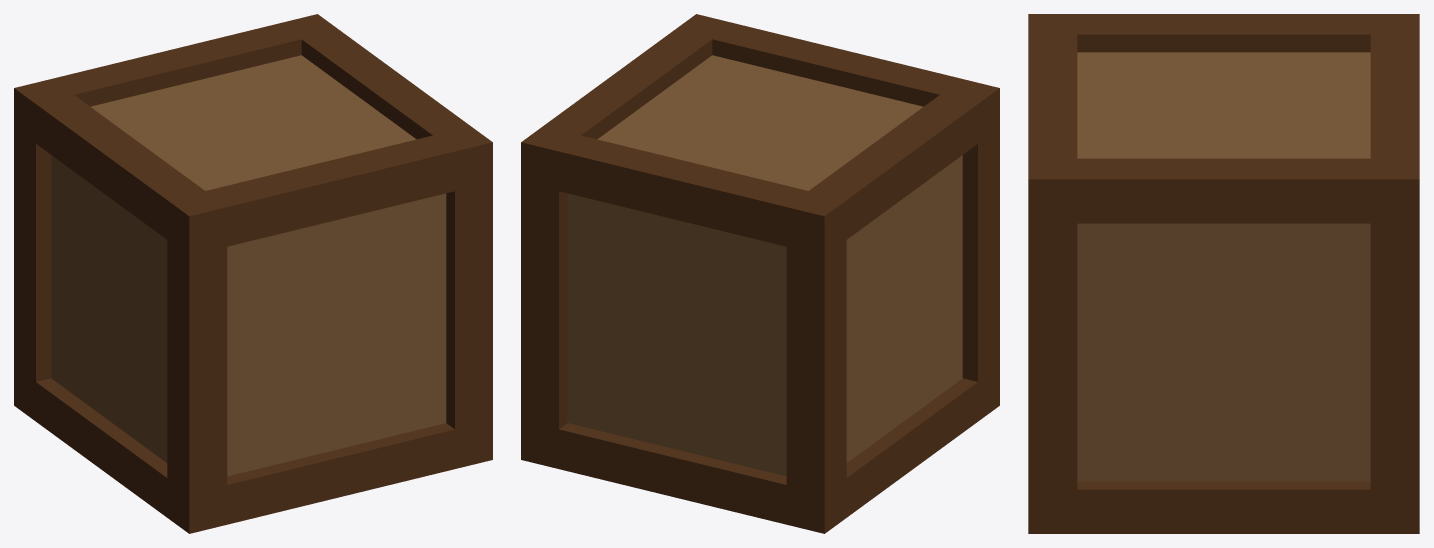
The model's file is Crate.fbx.
The picture shows the model from 3 angles, left to right: view 1: azimuth 30°, elevation 25°; view 2: azimuth 150°, elevation 25°; view 3: azimuth 270°, elevation 25°; orthographic projection. The views are drawn at different scales.
Parts seen in each view (by area): view 1: Crate; view 2: Crate; view 3: Crate.
Boxes of the visible parts, x1,y1,x2,y2 form: Crate: (14, 14, 492, 533); Crate: (521, 14, 999, 533); Crate: (1028, 14, 1419, 533).
Size of the model in its own units: 100 by 100 by 100.
